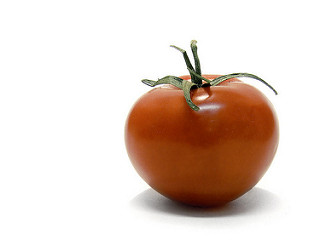tomato: (123, 75, 277, 213)
